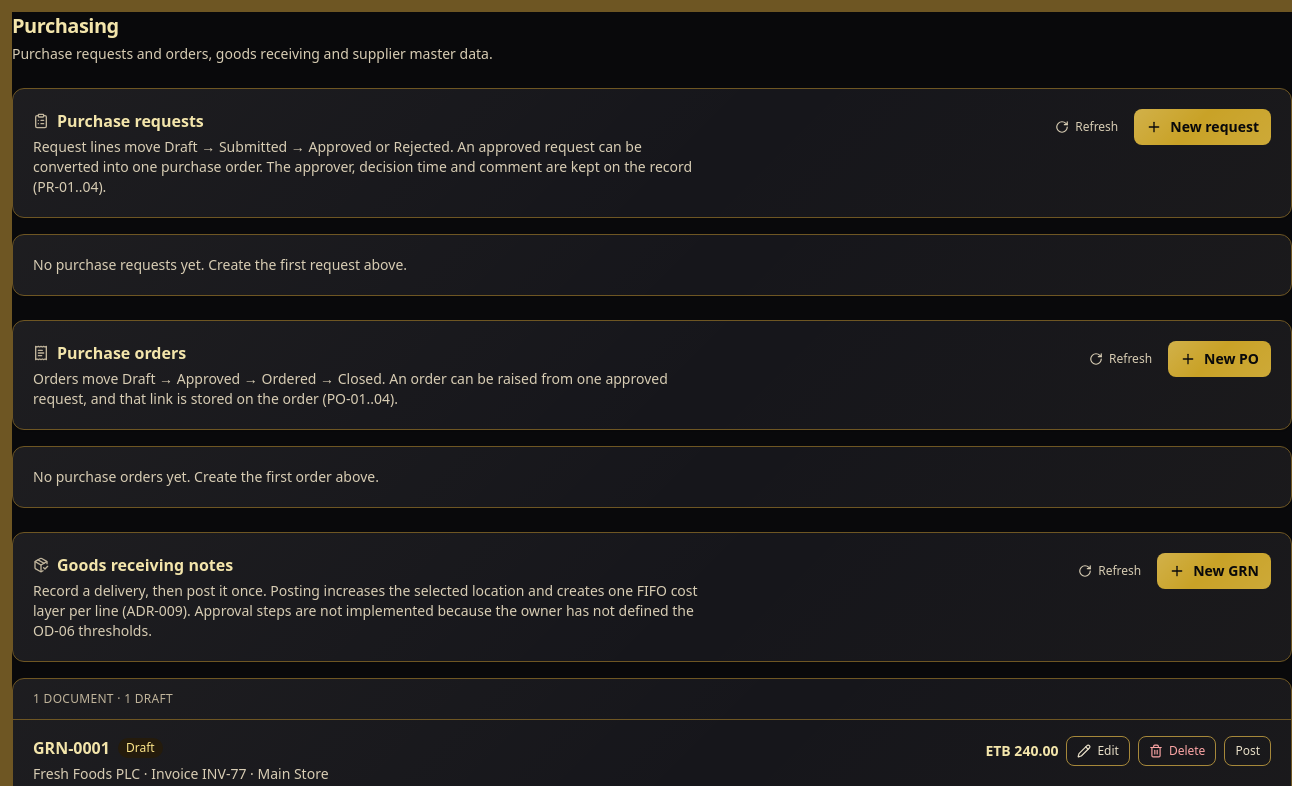
Test case: Purchasing - goods receiving › deletes a draft GRN only after confirmation
The image size is (1292, 786).
Click the button with aria-label "delete grn grn-0001" at {"x": 1177, "y": 751}, box [1138,736,1216,766]
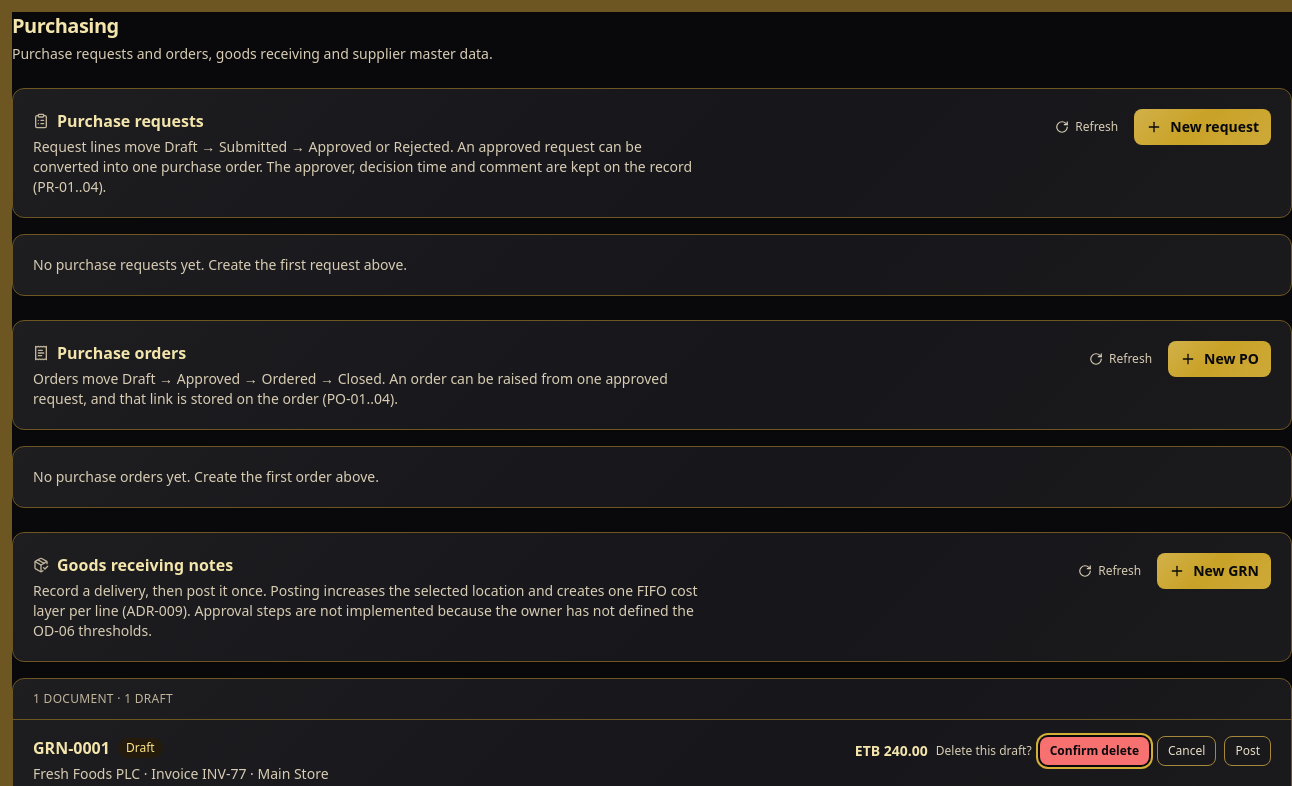
Expected: the text "Delete this draft?" is shown, [936,743,1032,759]
Click the button "Confirm delete" at {"x": 1094, "y": 751}, box [1040,737,1149,765]
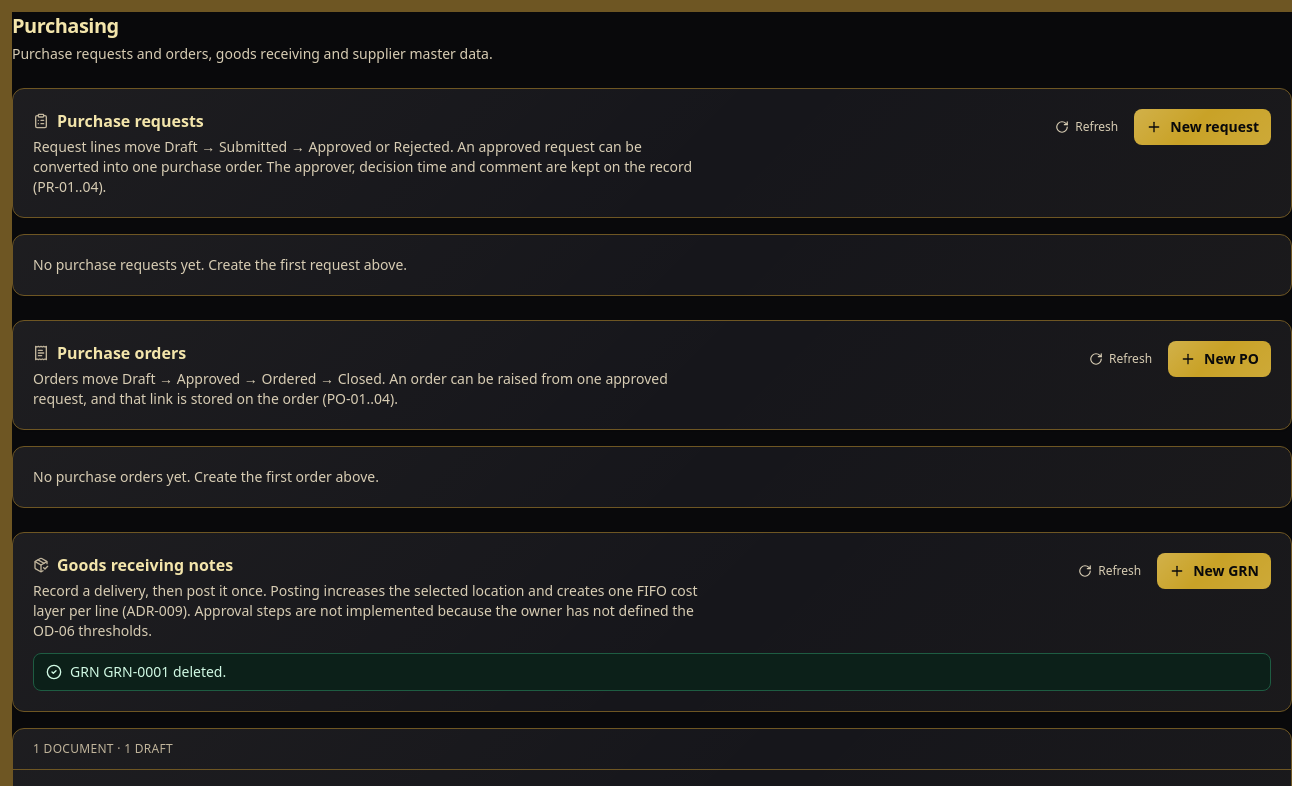
Expected: the message shows "GRN GRN-0001 deleted", [70,662,226,681]
